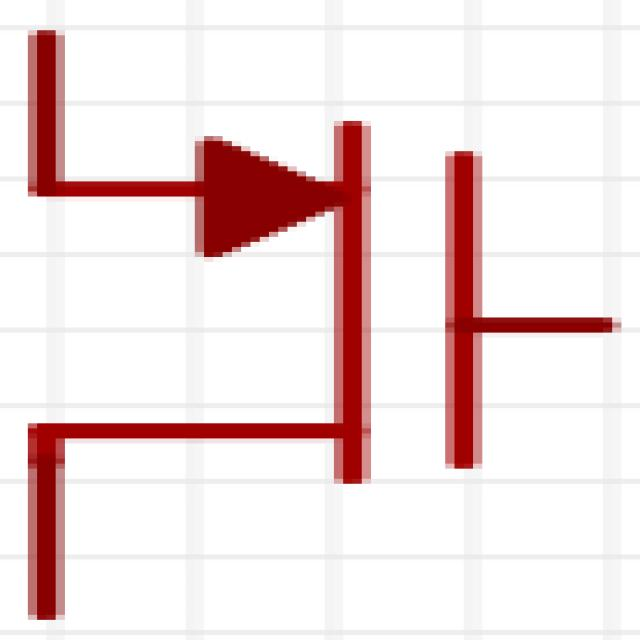pmos: (8, 18, 640, 615)
